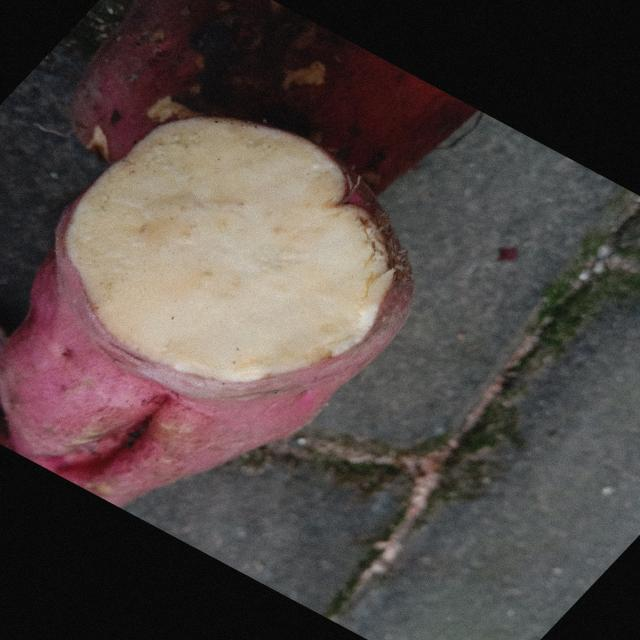Healthy Sweet Potato: (67, 118, 393, 381)
